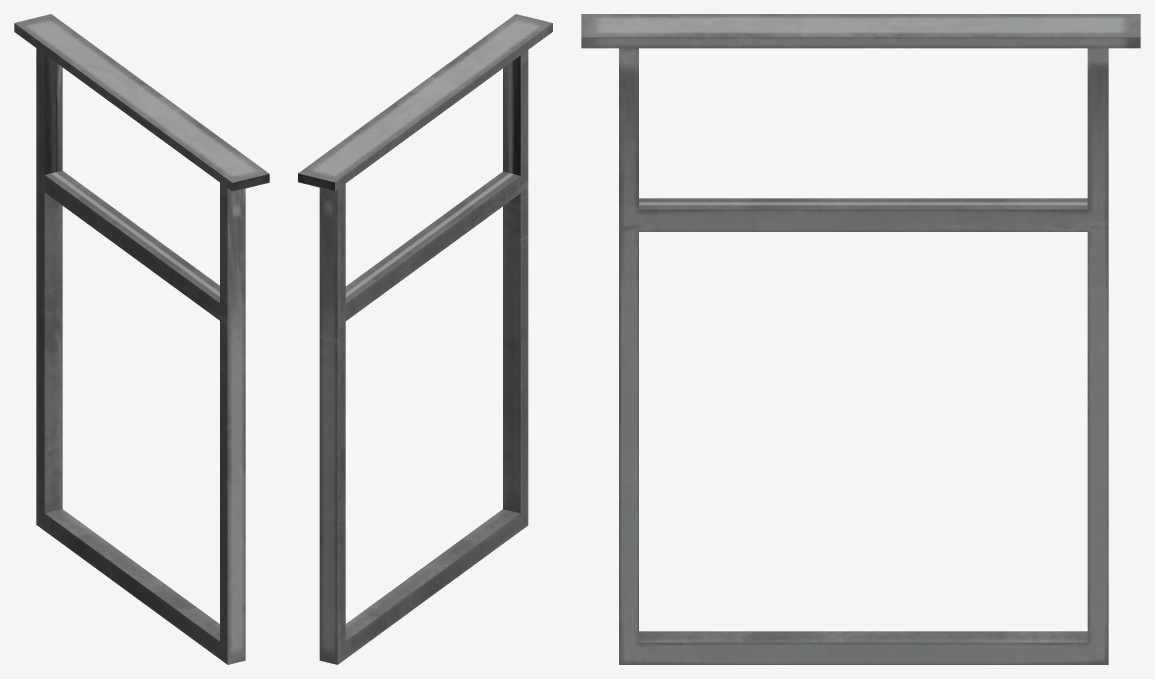
Rendered from SM_Vent_Duct_Bracket_01.glb.
3 renders of one model, left to right at view 1: azimuth 30°, elevation 25°; view 2: azimuth 150°, elevation 25°; view 3: azimuth 270°, elevation 25°, orthographic. The views are drawn at different scales.
Parts seen in each view (by area): view 1: SM_Vent_Duct_Bracket_01; view 2: SM_Vent_Duct_Bracket_01; view 3: SM_Vent_Duct_Bracket_01.
Part boxes in pixels (x1,y1,x2,y2): SM_Vent_Duct_Bracket_01: (14, 14, 269, 664); SM_Vent_Duct_Bracket_01: (298, 14, 552, 664); SM_Vent_Duct_Bracket_01: (581, 14, 1140, 664).
Size of the model in its own units: 0.0488 by 0.6223 by 0.4977.
1 material, 1 textured.
